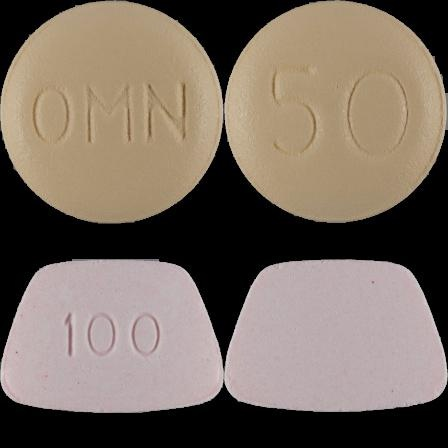21695-129: (0, 0, 224, 224)
